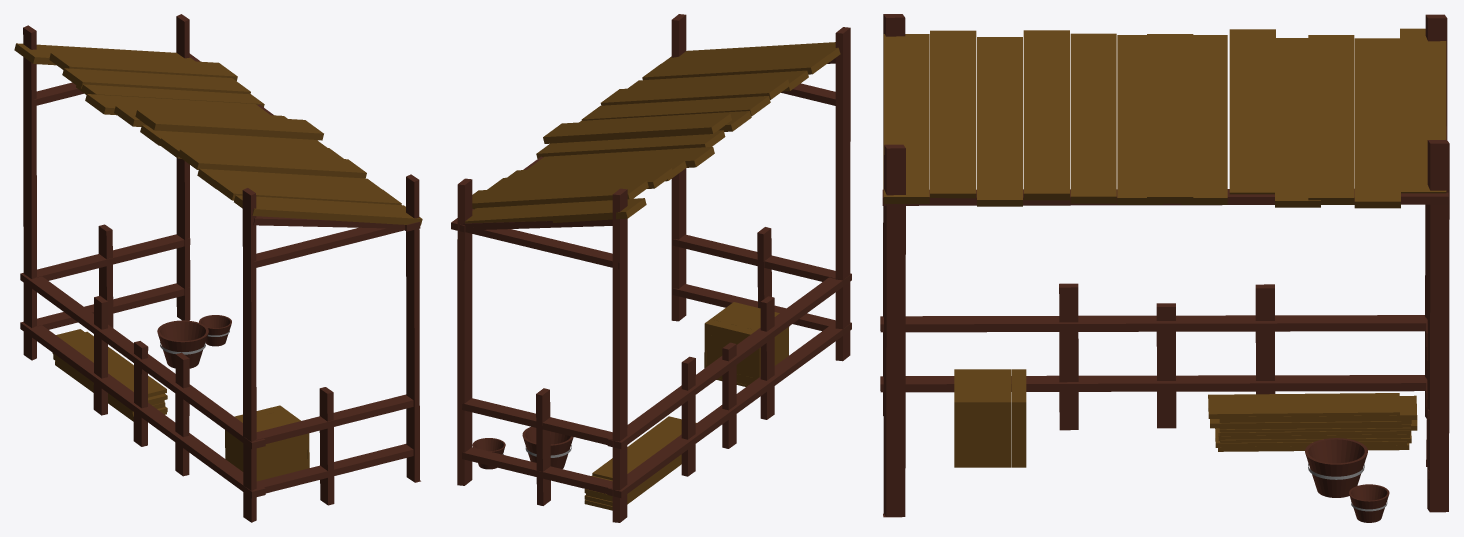
File: barraco de  madeira.fbx
3 renders of one model, left to right at view 1: azimuth 30°, elevation 25°; view 2: azimuth 150°, elevation 25°; view 3: azimuth 270°, elevation 25°, orthographic. The views are drawn at different scales.
Visible parts, largest first — view 1: Cube.052; view 2: Cube.052; view 3: Cube.052.
Boxes of the visible parts, x1,y1,x2,y2 form: Cube.052: (14, 14, 422, 522); Cube.052: (451, 14, 851, 522); Cube.052: (880, 14, 1449, 522).
Size of the model in its own units: 500 by 851 by 1071.
